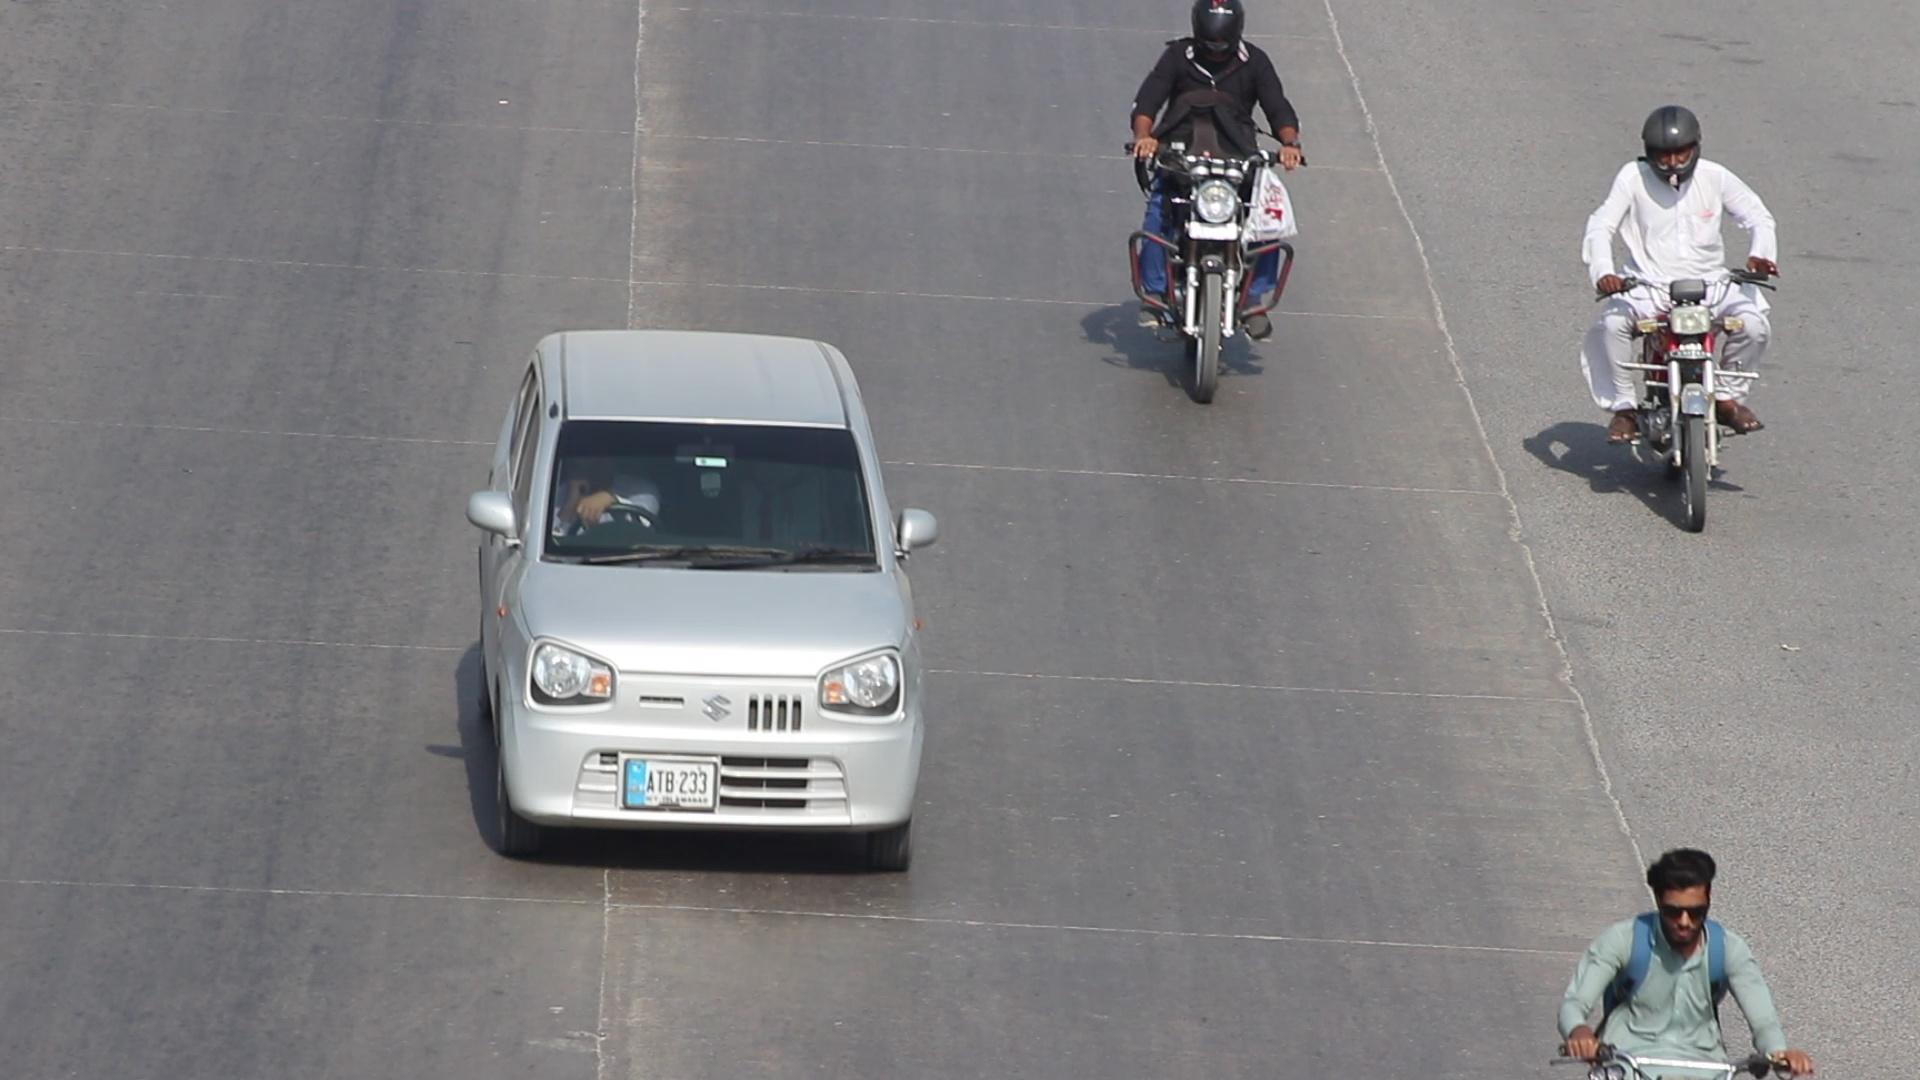windshield: (530, 410, 897, 576)
